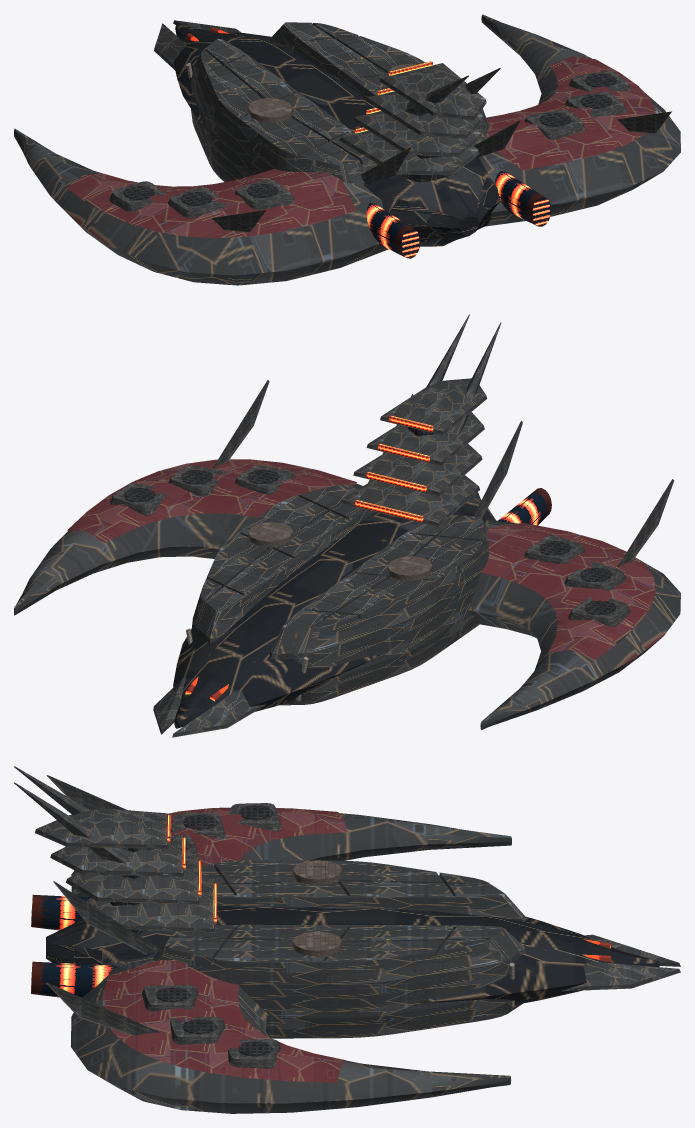
File: dynasty_battleship_far.glb
The picture shows the model from 3 angles, top to bottom: view 1: azimuth 30°, elevation 25°; view 2: azimuth 150°, elevation 25°; view 3: azimuth 270°, elevation 25°; orthographic projection. The views are drawn at different scales.
Parts seen in each view (by area): view 1: dynasty_battleship_far_source; view 2: dynasty_battleship_far_source; view 3: dynasty_battleship_far_source.
Part boxes in pixels (x1=…): dynasty_battleship_far_source: x1=14, y1=14, x2=680, y2=285; dynasty_battleship_far_source: x1=14, y1=314, x2=680, y2=737; dynasty_battleship_far_source: x1=14, y1=766, x2=680, y2=1113.
Size of the model in its own units: 3.79 by 1.39 by 3.74.
1 material, 1 textured.
